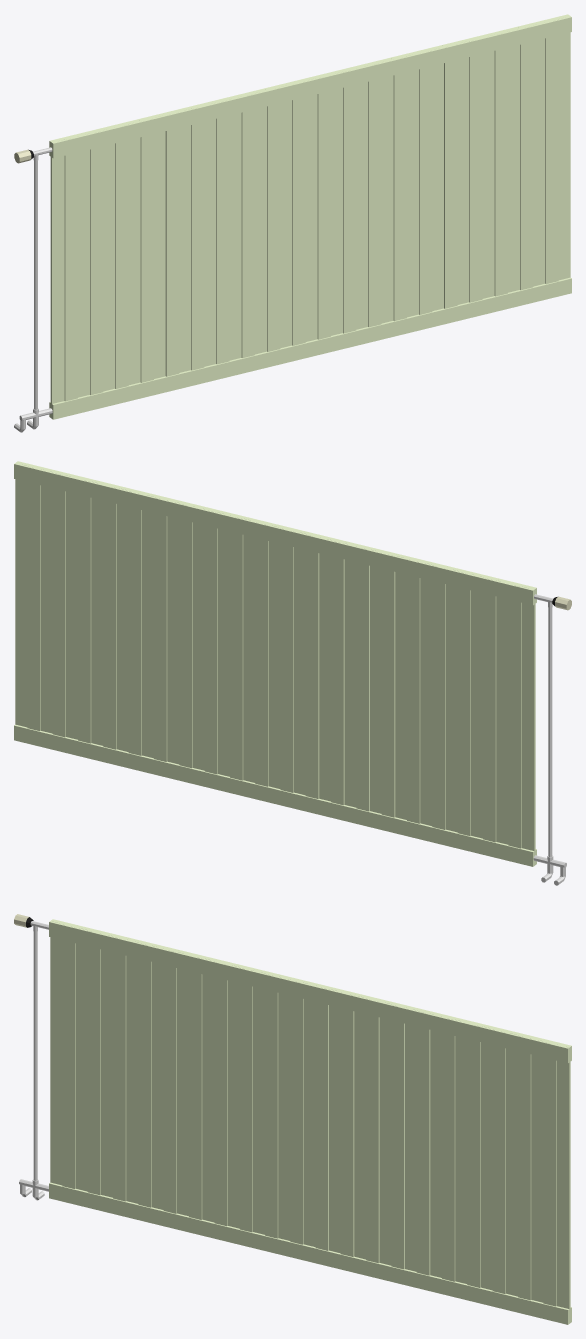
3 renders of one model, top to bottom at view 1: azimuth 30°, elevation 25°; view 2: azimuth 150°, elevation 25°; view 3: azimuth 330°, elevation 25°, orthographic.
Visible parts, largest first — view 1: Cube, Cube.001, Cube.002, Cylinder; view 2: Cube, Cube.001, Cube.002, Cylinder; view 3: Cube, Cube.001, Cube.002, Cylinder.
Boxes of the visible parts, bbox=[...] form: Cube: bbox=[50, 15, 570, 418]; Cube.001: bbox=[49, 14, 571, 158]; Cube.002: bbox=[49, 277, 571, 419]; Cylinder: bbox=[34, 161, 37, 409]; Cube: bbox=[15, 462, 535, 865]; Cube.001: bbox=[14, 461, 536, 605]; Cube.002: bbox=[14, 724, 536, 866]; Cylinder: bbox=[548, 608, 552, 856]; Cube: bbox=[50, 920, 570, 1323]; Cube.001: bbox=[49, 919, 571, 1063]; Cube.002: bbox=[49, 1182, 571, 1324]; Cylinder: bbox=[33, 931, 37, 1180].
Bounding box in the file's own units: 1.21 × 0.5945 × 0.0359.
